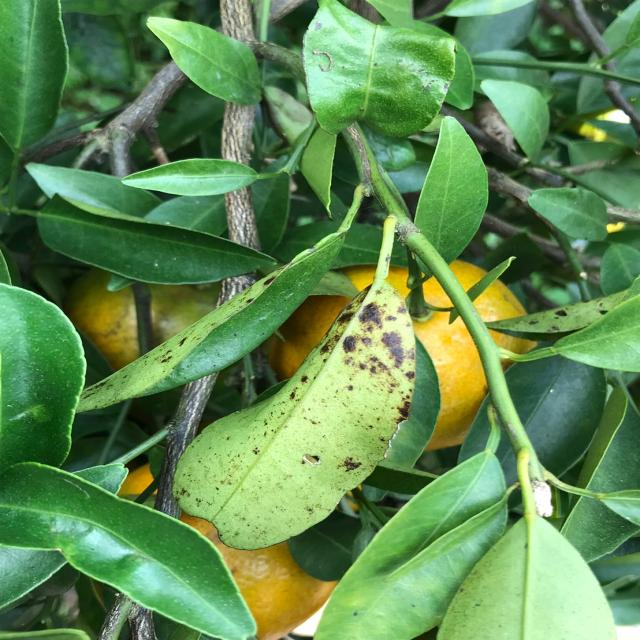melanose: (179, 279, 420, 549), (30, 230, 349, 410), (487, 267, 640, 364)
